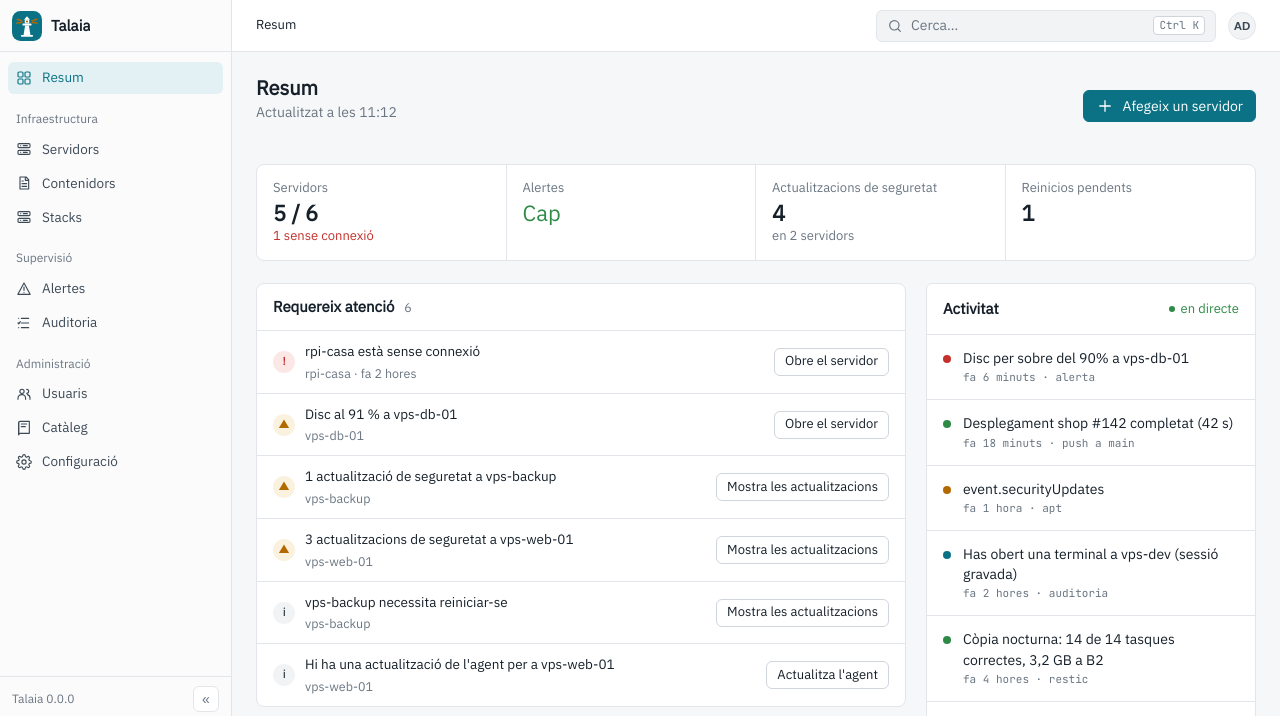
Test case: App › translates the navigation and the Overview title with the language
This screenshot has width=1280, height=716.
Check: the link "Resum" is shown, box [8,62,223,94]
Check: the link "Servidors" is shown, box [16,140,99,158]
Click the button with aria-label "admin": [1242, 26] box [1228,12,1256,40]
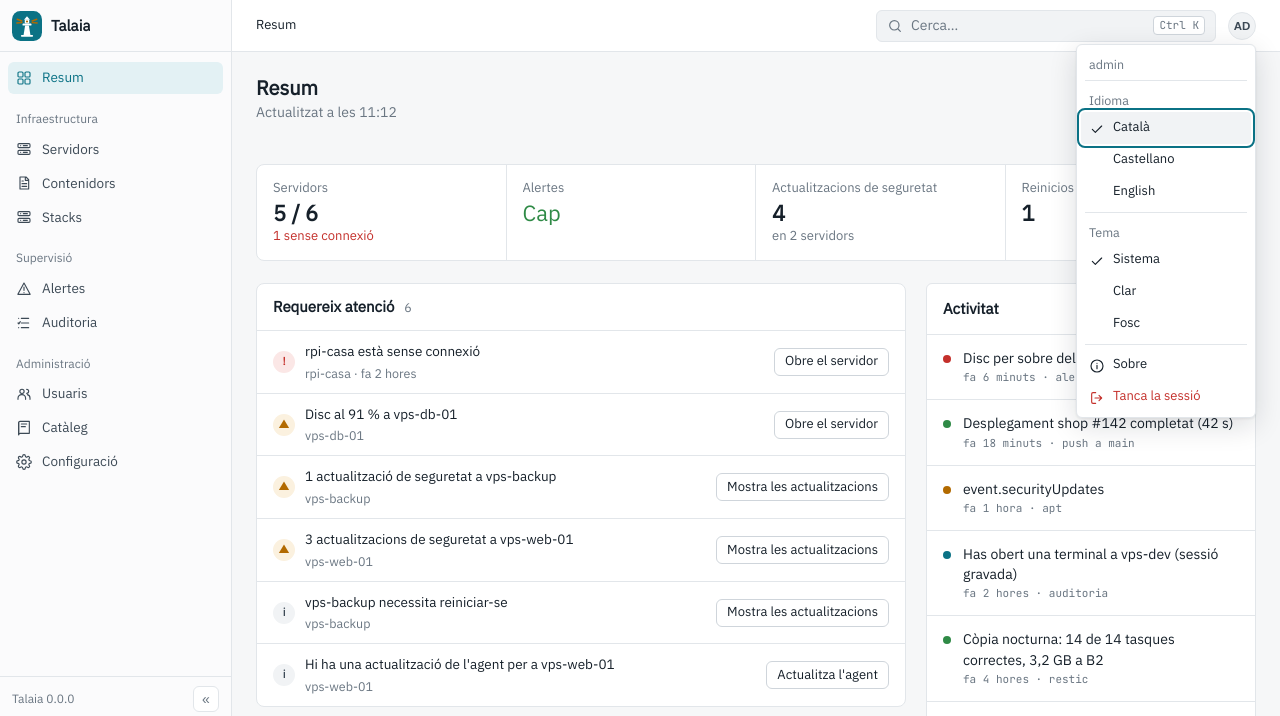
Check: the menu item "Sobre" is shown, box [1081,349,1251,381]
